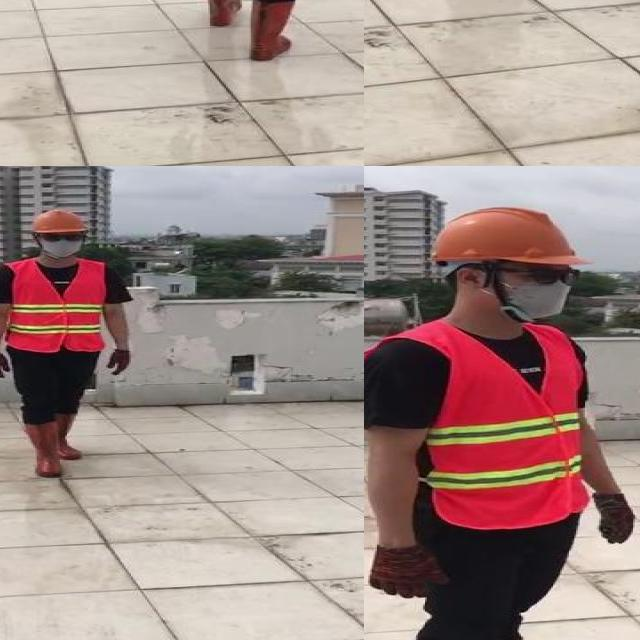boots: (249, 0, 295, 61), (22, 423, 64, 478), (53, 411, 85, 460), (199, 0, 245, 27)
face_mask: (502, 262, 580, 318), (38, 229, 84, 256)
glasses: (506, 260, 584, 293), (40, 232, 88, 244)
hand_glove: (366, 544, 448, 598), (592, 492, 637, 545), (108, 350, 133, 378), (0, 354, 15, 378)
head_helmet: (424, 204, 582, 268), (26, 208, 92, 235)
person: (364, 202, 635, 640), (0, 205, 142, 481), (155, 0, 364, 69)
vest: (418, 325, 588, 529), (3, 260, 104, 354)
